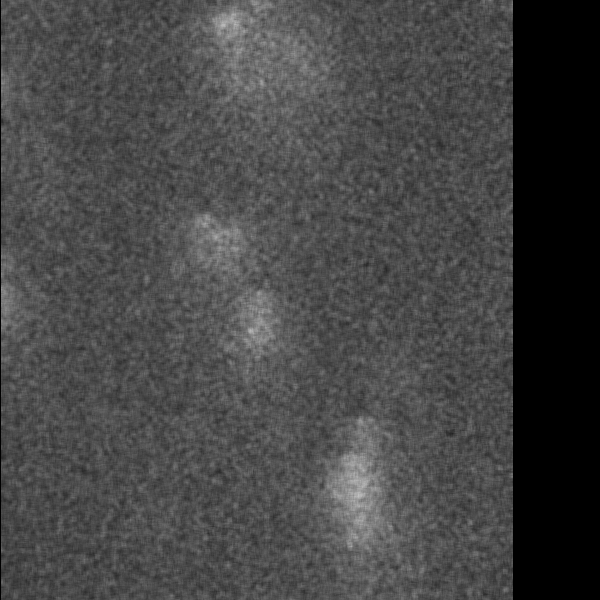spark: (318, 404, 388, 595), (176, 7, 293, 48), (192, 218, 242, 293), (237, 321, 282, 345)
